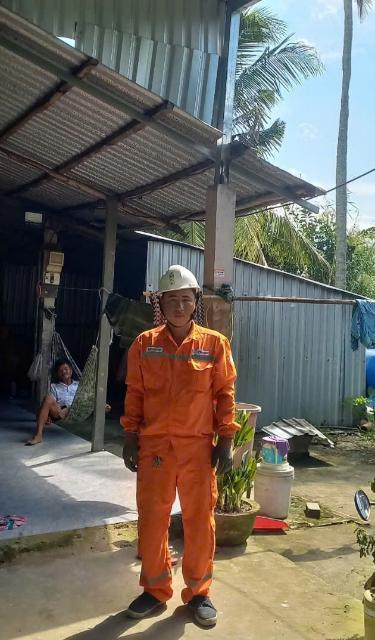gloves: (121, 431, 144, 481), (215, 433, 241, 474)
helmet: (157, 258, 202, 299)
shoes: (179, 590, 230, 635), (121, 581, 169, 622)
